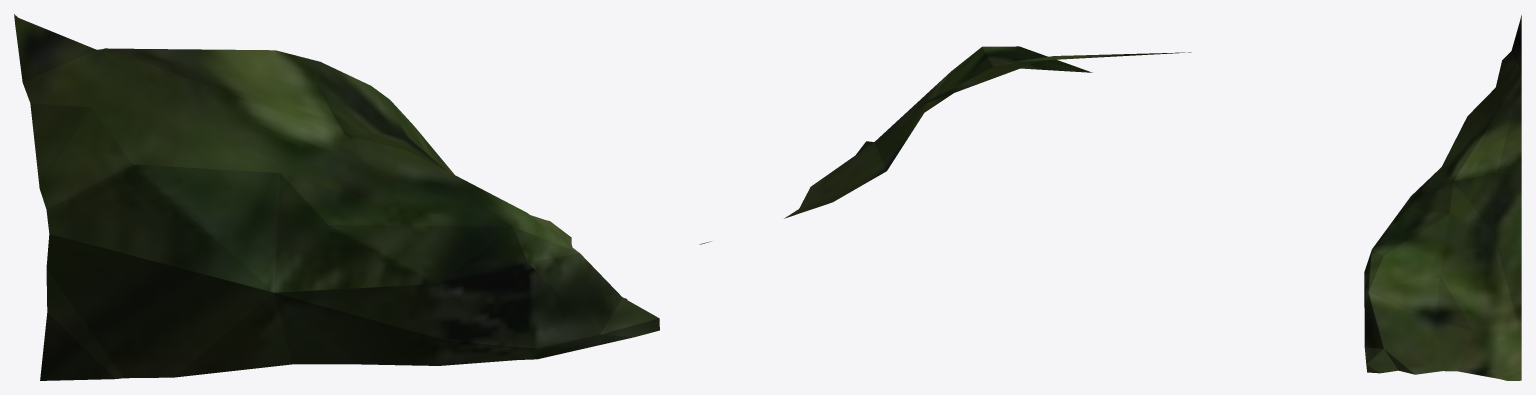
3 views of the same model, side by side, from view 1: azimuth 30°, elevation 25°; view 2: azimuth 150°, elevation 25°; view 3: azimuth 270°, elevation 25° (orthographic). The views are drawn at different scales.
Bounding box in the file's own units: 0.3027 × 0.1844 × 0.1265.
Materials: 1 (1 with a texture image).
